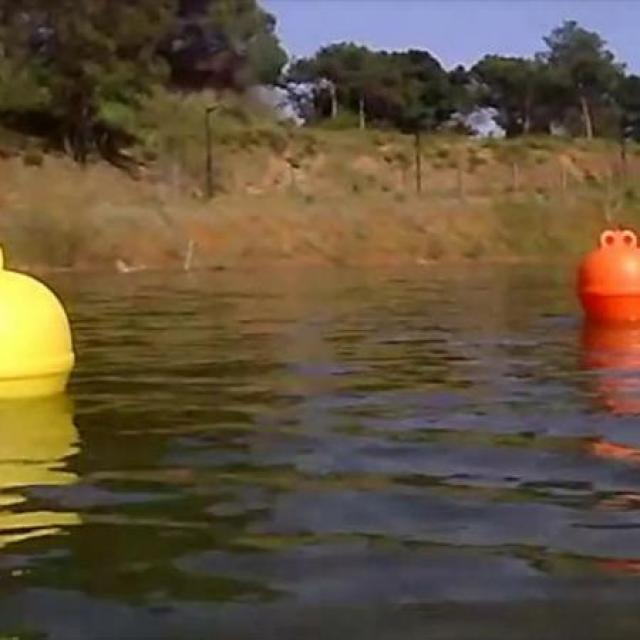buoy: (0, 245, 78, 396), (578, 229, 639, 320)
